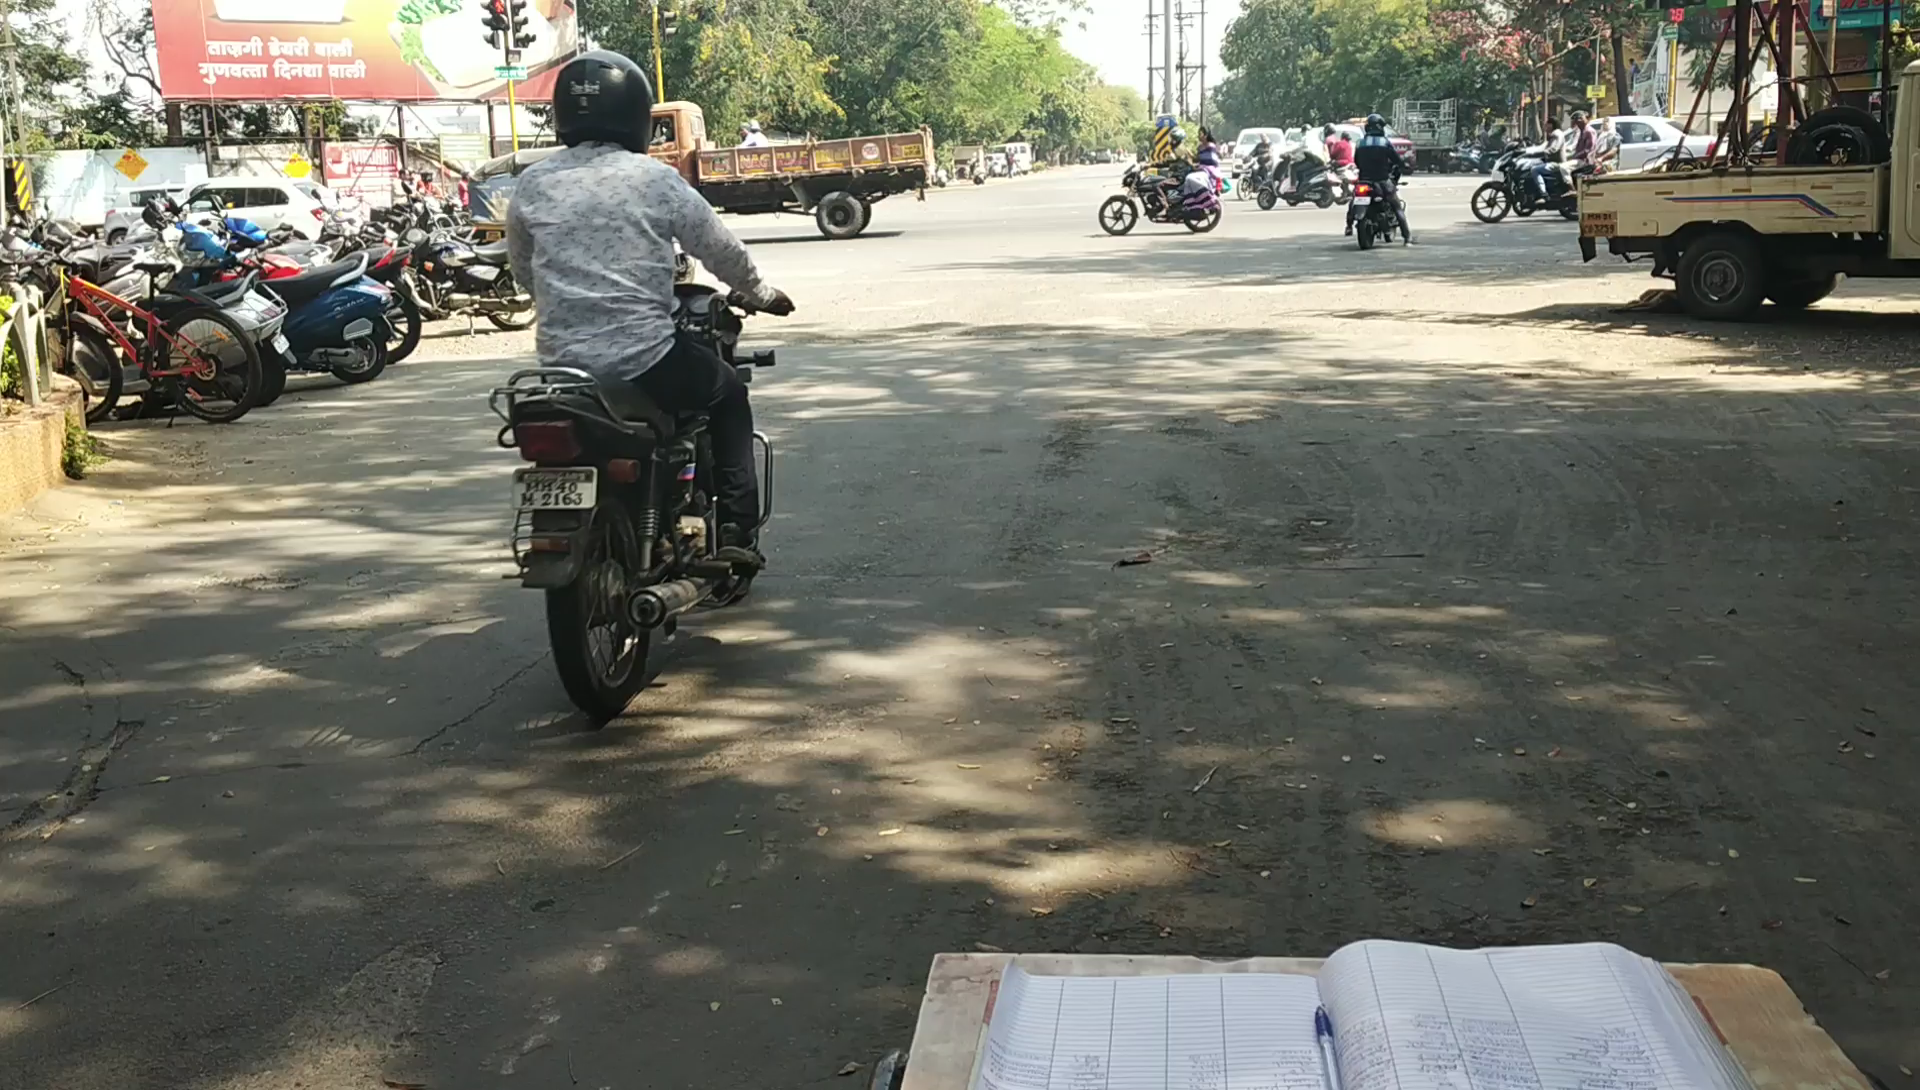car: (459, 209, 803, 742)
numplate: (505, 463, 615, 521)
